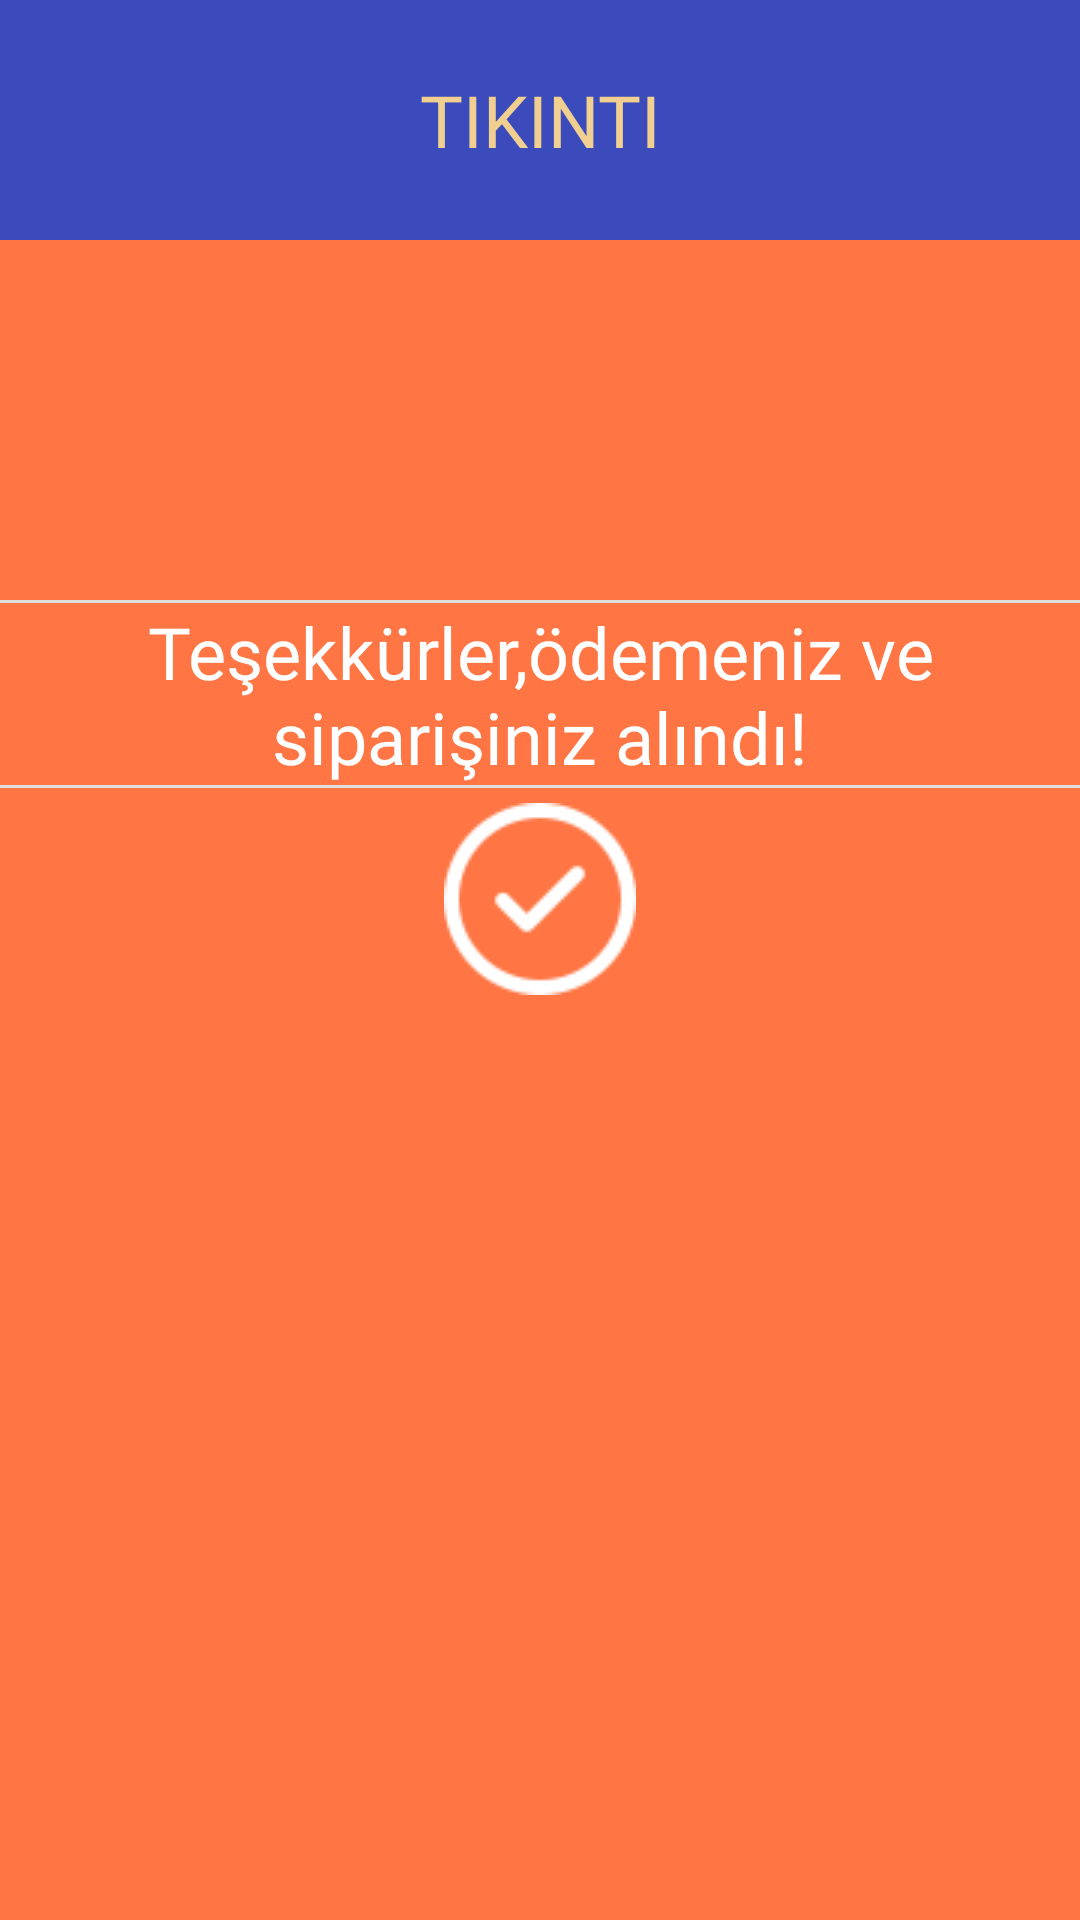

Where icons sit on this 1080 × 1920 app screen, as (x1, y1, x2, y2):
checkmark: (444, 803, 636, 995)
